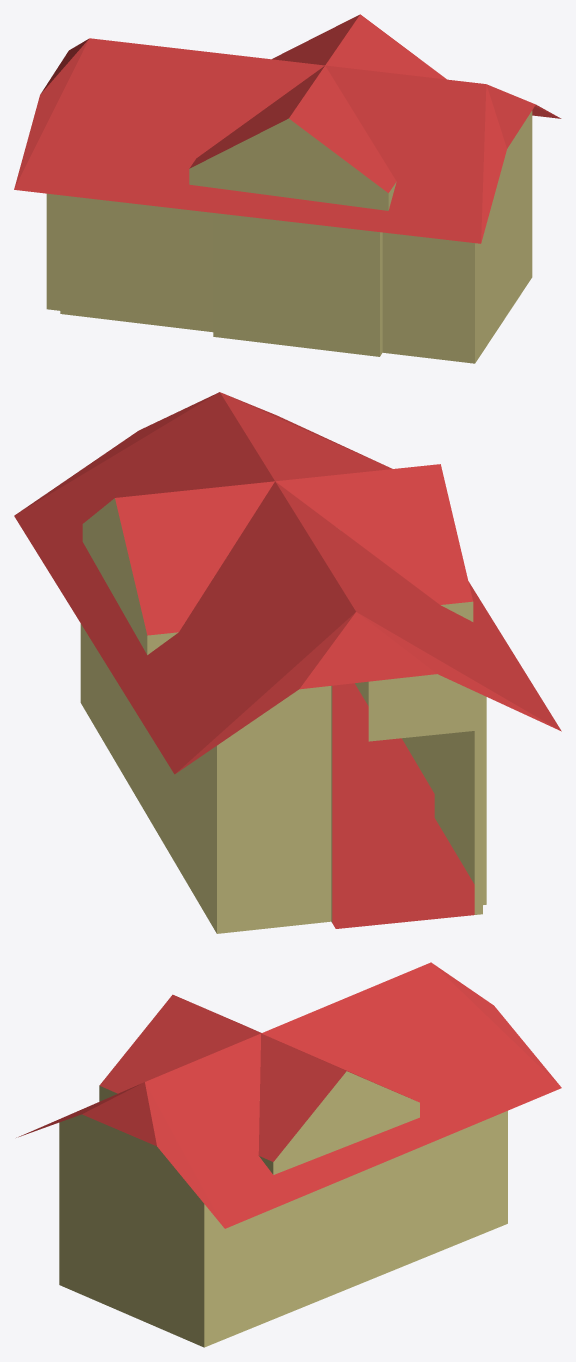
3 renders of one model, top to bottom at view 1: azimuth 30°, elevation 25°; view 2: azimuth 150°, elevation 25°; view 3: azimuth 270°, elevation 25°, orthographic. The views are drawn at different scales.
Parts seen in each view (by area): view 1: group_7, group_3, group_4, group_5, group_6; view 2: group_3, group_7, group_4, group_8, group_6, group_5; view 3: group_7, group_3, group_4, group_6, group_5.
Part boxes in pixels (x1,y1,x2,y2): group_7: (46, 110, 532, 363); group_3: (14, 38, 561, 243); group_4: (189, 14, 446, 192); group_5: (189, 118, 396, 210); group_6: (14, 46, 558, 243); group_3: (14, 392, 561, 773); group_7: (80, 624, 486, 933); group_4: (115, 464, 472, 635); group_8: (332, 683, 474, 928); group_6: (14, 407, 558, 773); group_5: (82, 498, 473, 654); group_7: (59, 1111, 507, 1347); group_3: (16, 962, 561, 1228); group_4: (99, 994, 408, 1161); group_6: (25, 980, 561, 1228); group_5: (99, 1071, 419, 1174).
Size of the model in its own units: 34.11 by 34.19 by 15.78.
